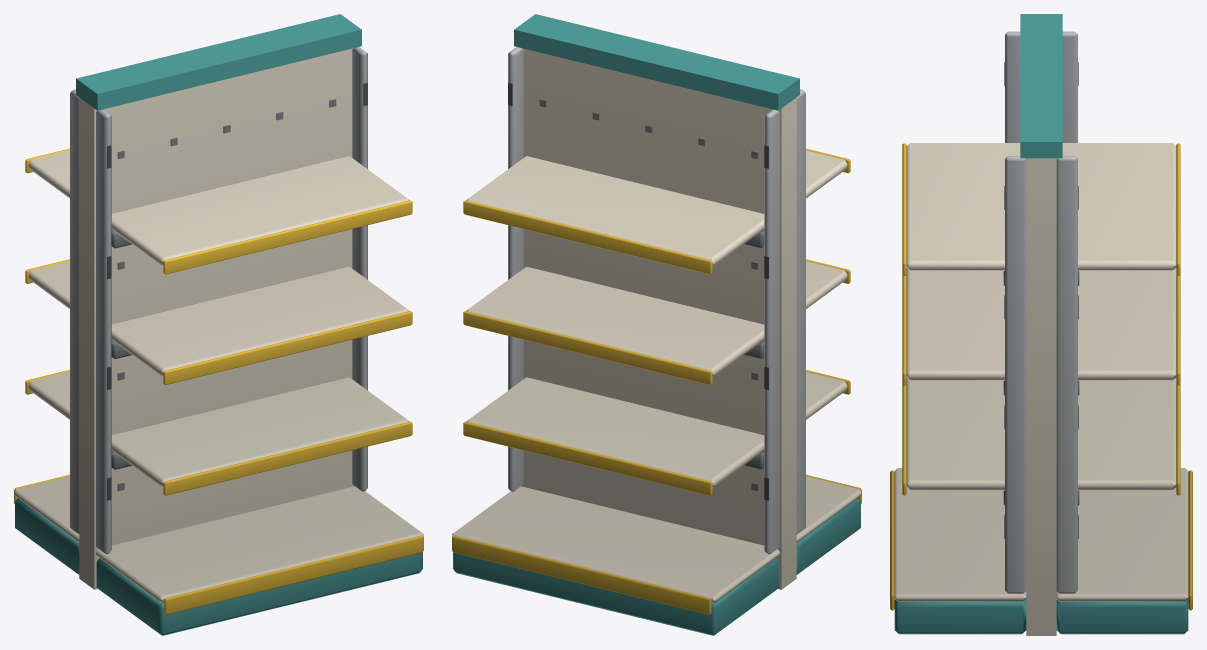
The model's file is Gondola_Island_10.glb.
The picture shows the model from 3 angles, left to right: view 1: azimuth 30°, elevation 25°; view 2: azimuth 150°, elevation 25°; view 3: azimuth 270°, elevation 25°; orthographic projection.
Parts seen in each view (by area): view 1: SM_Gondola_Island_10; view 2: SM_Gondola_Island_10; view 3: SM_Gondola_Island_10.
Boxes of the visible parts, x1=… form: SM_Gondola_Island_10: x1=14, y1=14, x2=423, y2=635; SM_Gondola_Island_10: x1=452, y1=14, x2=861, y2=635; SM_Gondola_Island_10: x1=890, y1=14, x2=1192, y2=635.
Size of the model in its own units: 1 by 1.8 by 1.
1 material, 1 textured.
